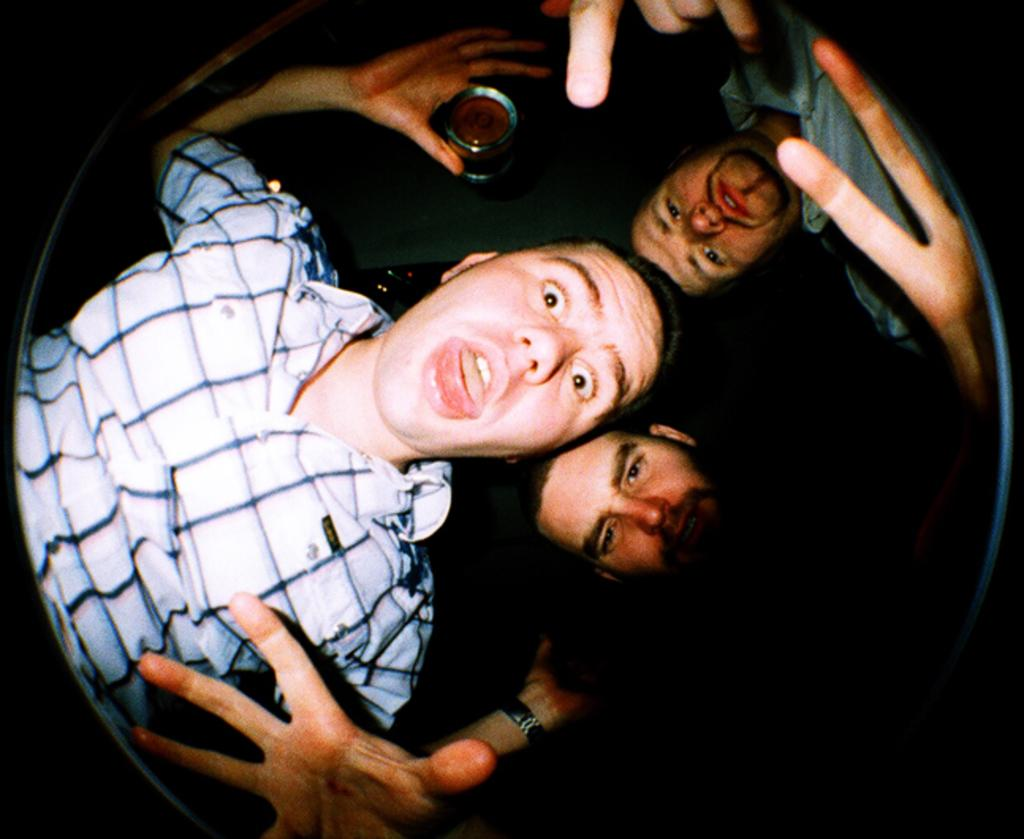Sem Máscara: (373, 236, 656, 454), (630, 145, 800, 300), (536, 427, 715, 572)
